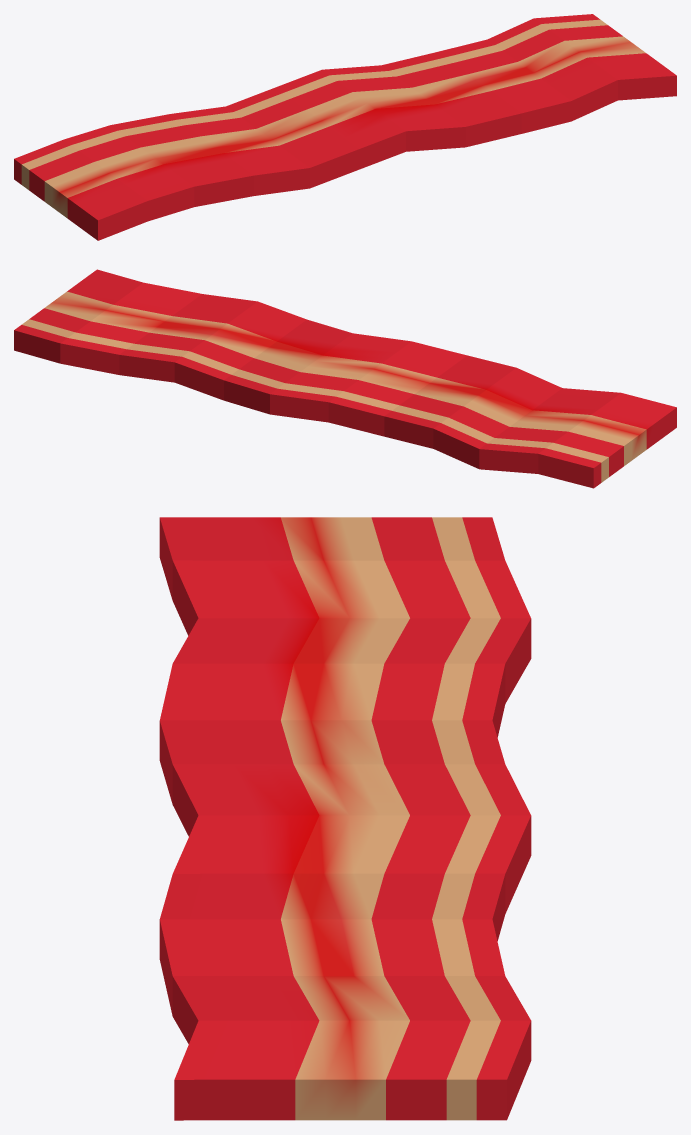
Rendered from bacon.fbx.
The picture shows the model from 3 angles, top to bottom: view 1: azimuth 30°, elevation 25°; view 2: azimuth 150°, elevation 25°; view 3: azimuth 270°, elevation 25°; orthographic projection. The views are drawn at different scales.
Parts seen in each view (by area): view 1: Plane; view 2: Plane; view 3: Plane.
Boxes of the visible parts, <box> form: Plane: <box>14,14,676,240</box>; Plane: <box>14,269,676,488</box>; Plane: <box>159,517,531,1120</box>.
Bounding box in the file's own units: 800 × 32.88 × 223.
